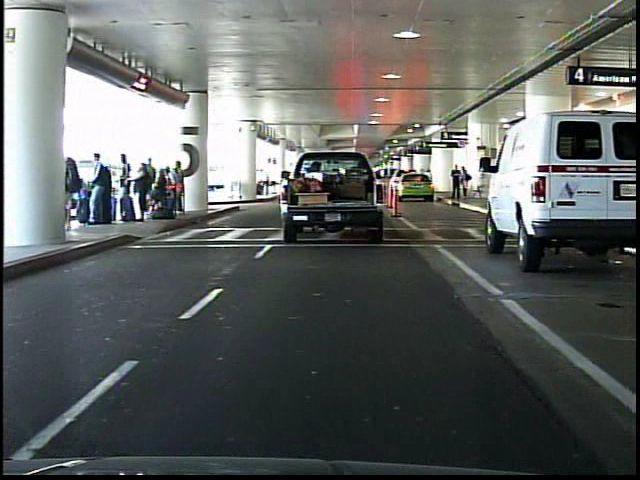person: (448, 165, 461, 202), (461, 165, 473, 203)
